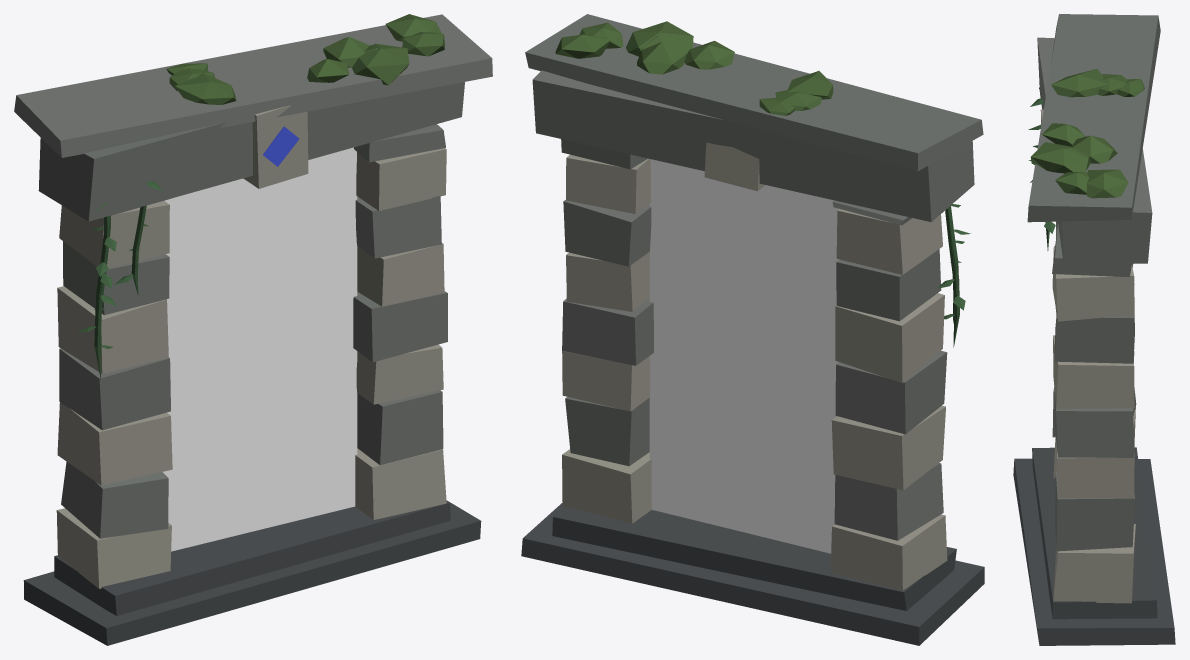
File: PortalFrame_A.glb
The picture shows the model from 3 angles, left to right: view 1: azimuth 30°, elevation 25°; view 2: azimuth 150°, elevation 25°; view 3: azimuth 270°, elevation 25°; orthographic projection. The views are drawn at different scales.
Parts seen in each view (by area): view 1: Portal__Portal, Lintel__Stone, PillarsB__StoneLight, PillarsA__Stone, Steps__StoneDark, Moss__Moss, Keystone__StoneLight, Vines__Leaf, KeyRune__Ink; view 2: Portal__Portal, Lintel__Stone, PillarsB__StoneLight, PillarsA__Stone, Steps__StoneDark, Moss__Moss, Keystone__StoneLight, Vines__Leaf; view 3: Lintel__Stone, PillarsB__StoneLight, Steps__StoneDark, PillarsA__Stone, Moss__Moss, Vines__Leaf.
Boxes of the visible parts, bbox=[...] form: Portal__Portal: bbox=[163, 147, 357, 551]; Lintel__Stone: bbox=[14, 14, 492, 221]; PillarsB__StoneLight: bbox=[56, 148, 446, 588]; PillarsA__Stone: bbox=[59, 124, 447, 538]; Steps__StoneDark: bbox=[23, 500, 481, 645]; Moss__Moss: bbox=[166, 14, 444, 104]; Keystone__StoneLight: bbox=[243, 105, 308, 188]; Vines__Leaf: bbox=[77, 181, 162, 379]; KeyRune__Ink: bbox=[263, 126, 299, 166]; Portal__Portal: bbox=[649, 159, 839, 553]; Lintel__Stone: bbox=[525, 14, 983, 222]; PillarsB__StoneLight: bbox=[562, 154, 947, 590]; PillarsA__Stone: bbox=[561, 139, 947, 540]; Steps__StoneDark: bbox=[521, 503, 984, 645]; Moss__Moss: bbox=[555, 21, 833, 115]; Keystone__StoneLight: bbox=[704, 142, 764, 191]; Vines__Leaf: bbox=[938, 204, 970, 347]; Lintel__Stone: bbox=[1027, 14, 1160, 264]; PillarsB__StoneLight: bbox=[1052, 229, 1135, 603]; Steps__StoneDark: bbox=[1013, 447, 1175, 645]; PillarsA__Stone: bbox=[1052, 221, 1136, 551]; Moss__Moss: bbox=[1030, 69, 1144, 198]; Vines__Leaf: bbox=[1028, 87, 1055, 250].
Size of the model in its own units: 0.1635 by 0.1908 by 0.0594.
